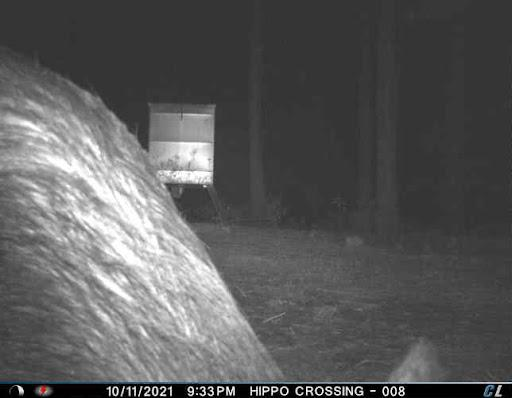Hog: (0, 46, 454, 384)
